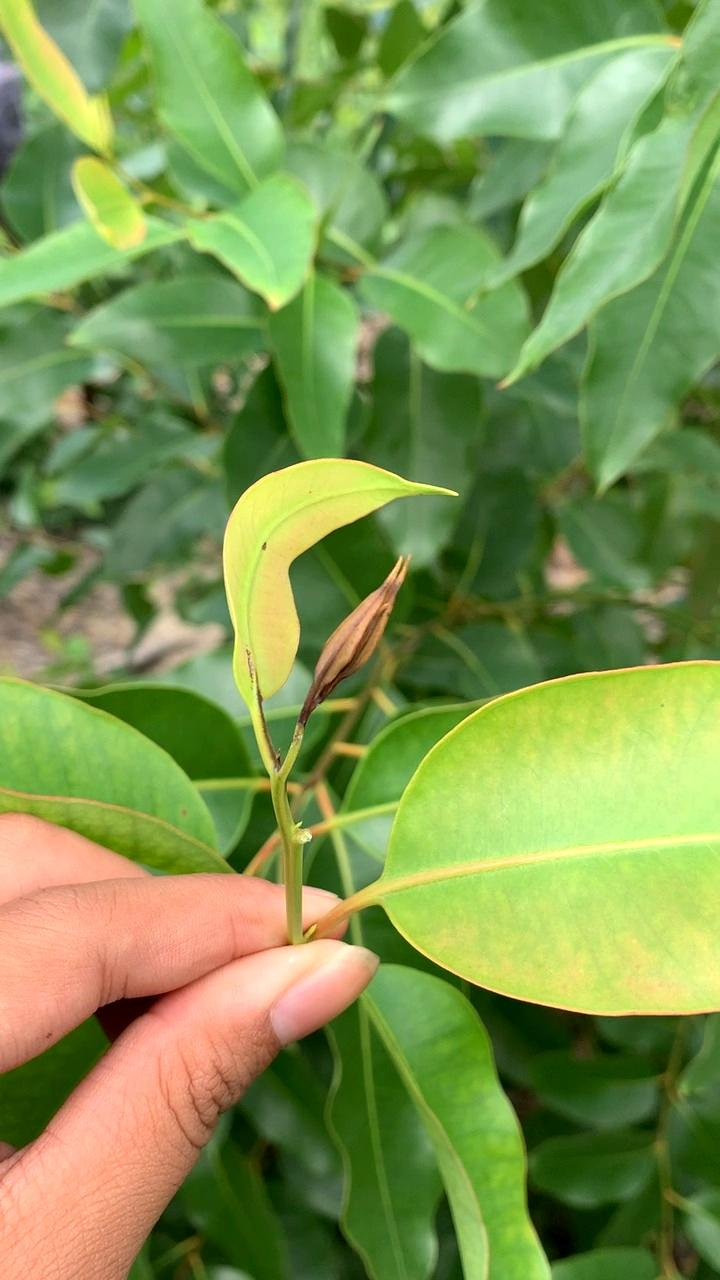Helopeltis-Withered Sprout: (286, 560, 433, 721)
